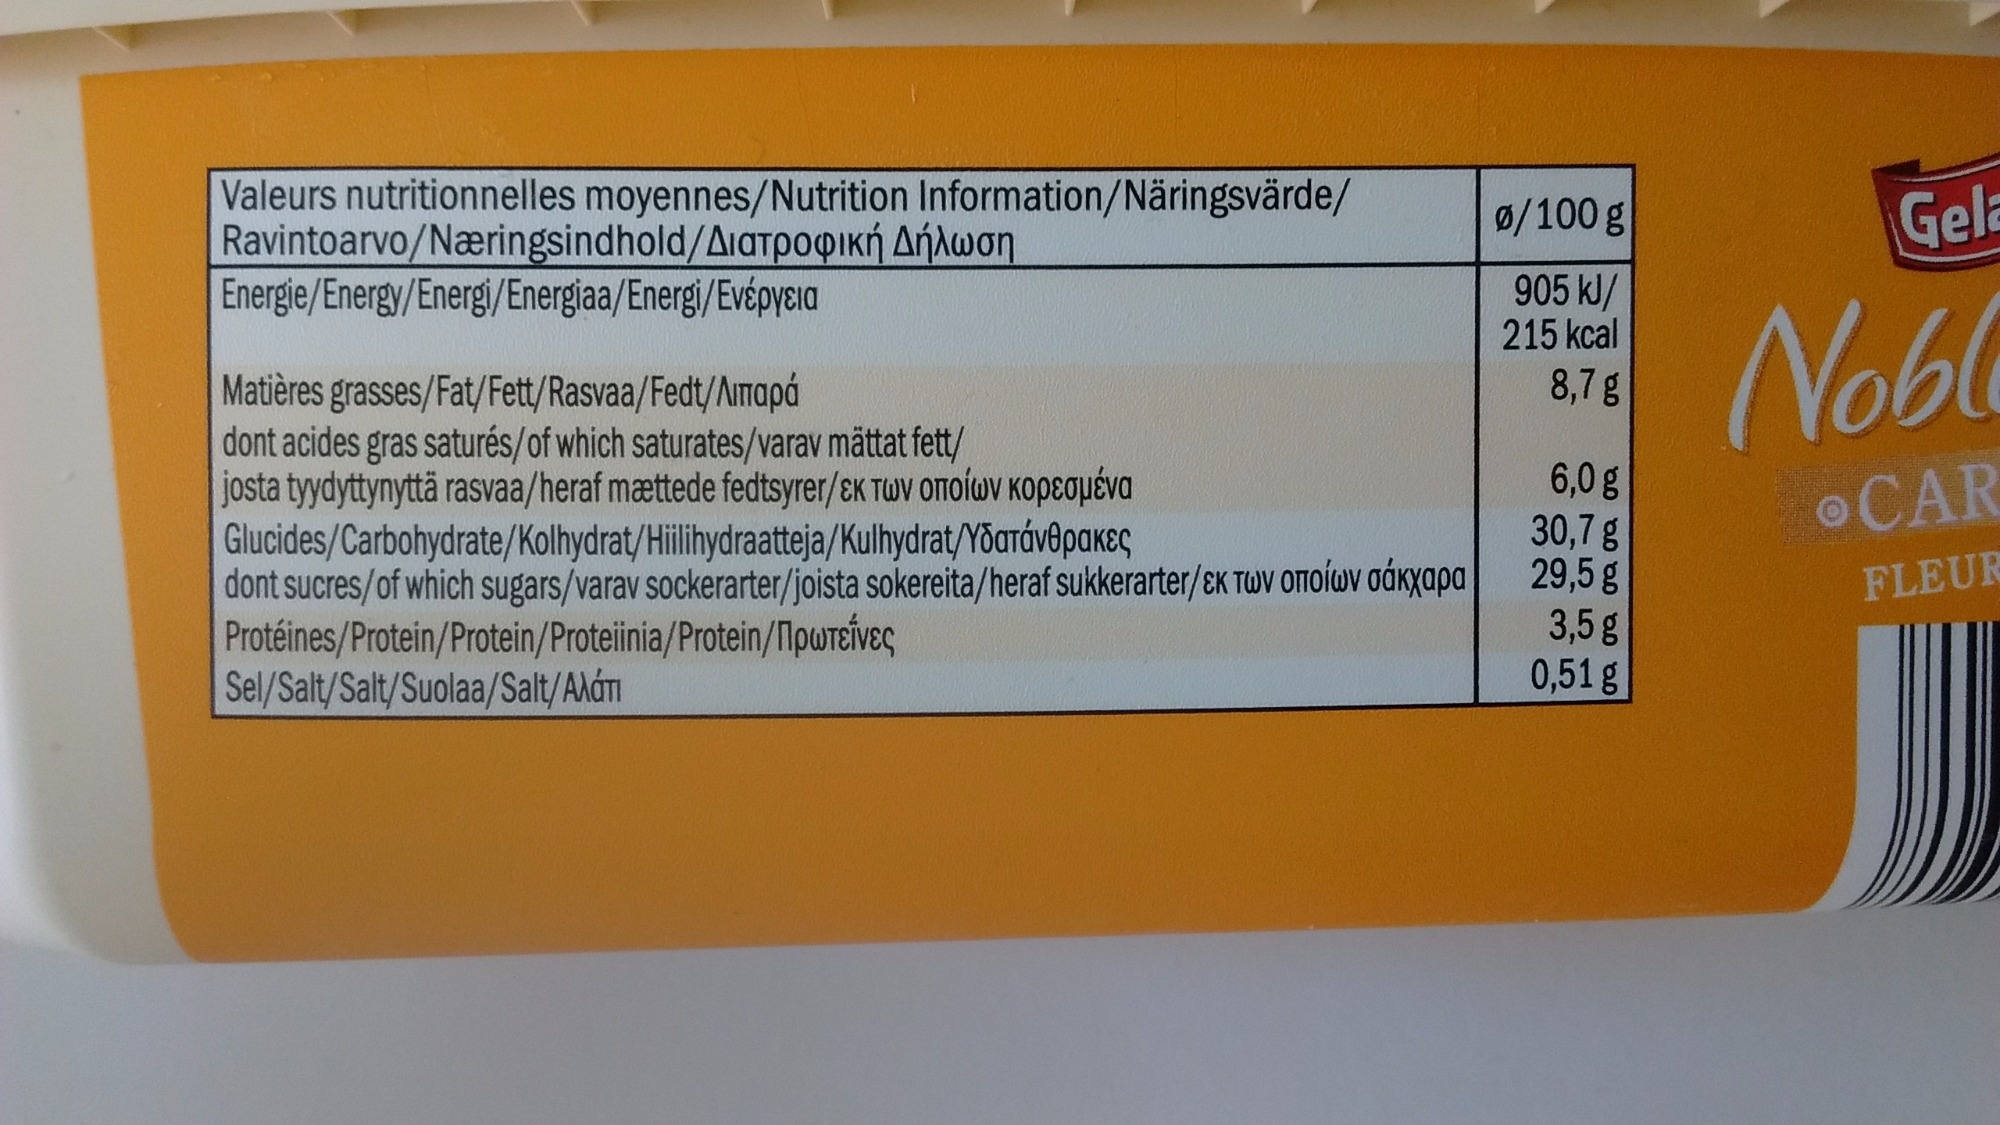column: (218, 174, 1473, 706), (1495, 180, 1625, 701)
table: (202, 155, 1647, 725)
